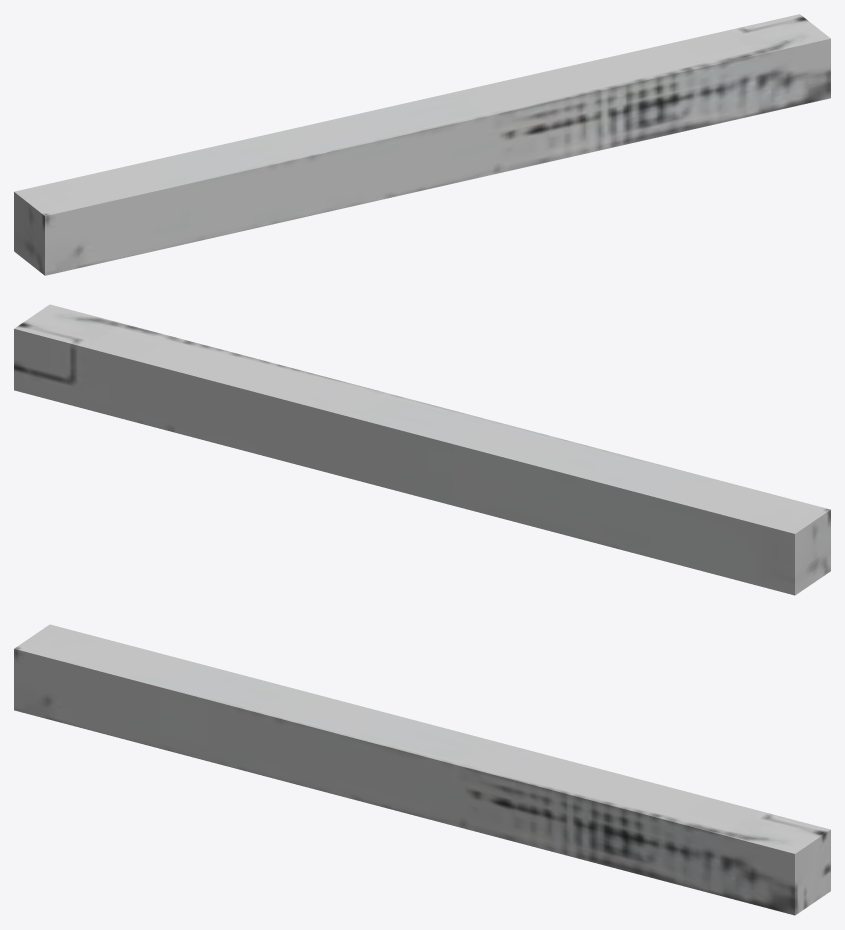
The model's file is frame__seat_side_rail_0.glb.
3 renders of one model, top to bottom at view 1: azimuth 30°, elevation 25°; view 2: azimuth 150°, elevation 25°; view 3: azimuth 330°, elevation 25°, orthographic. The views are drawn at different scales.
Parts seen in each view (by area): view 1: world; view 2: world; view 3: world.
Boxes of the visible parts, left/top/right/bottom form: world: left=14, top=14, right=830, bottom=275; world: left=14, top=304, right=830, bottom=595; world: left=14, top=624, right=830, bottom=915.
Size of the model in its own units: 0.4611 by 0.034 by 0.049.
Materials: 1 (1 with a texture image).
